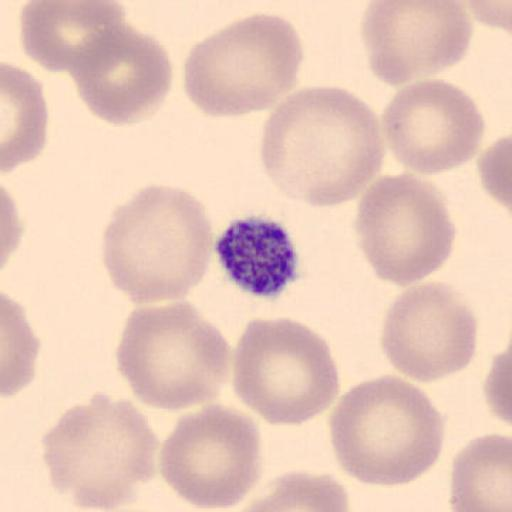Platelet: (214, 212, 304, 300)
RBC: (259, 85, 387, 208), (40, 392, 159, 512), (100, 182, 214, 306), (328, 372, 446, 488), (114, 298, 232, 412), (182, 12, 304, 118), (230, 315, 342, 428), (352, 171, 457, 287), (66, 21, 174, 127), (159, 403, 263, 510), (379, 279, 479, 384), (382, 78, 486, 176), (359, 0, 474, 87), (18, 0, 127, 73), (2, 60, 51, 174), (231, 468, 351, 512), (449, 431, 511, 512), (2, 294, 42, 400), (217, 489, 353, 511), (476, 132, 512, 215), (482, 343, 512, 429), (0, 179, 24, 275), (462, 0, 512, 34)
